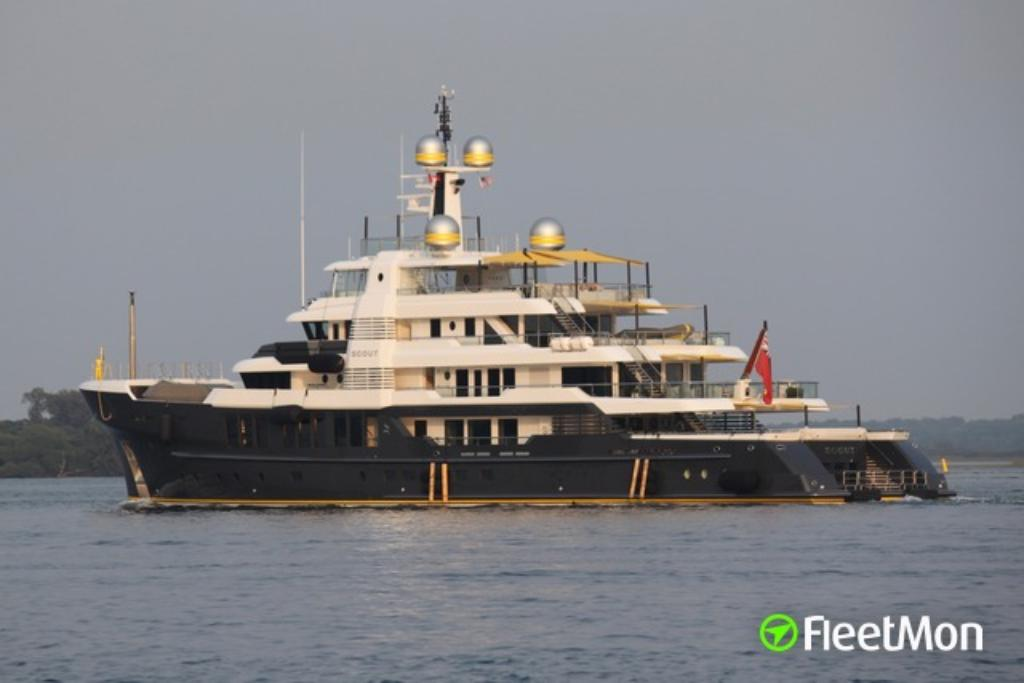PassengerShip: (79, 88, 957, 508)
